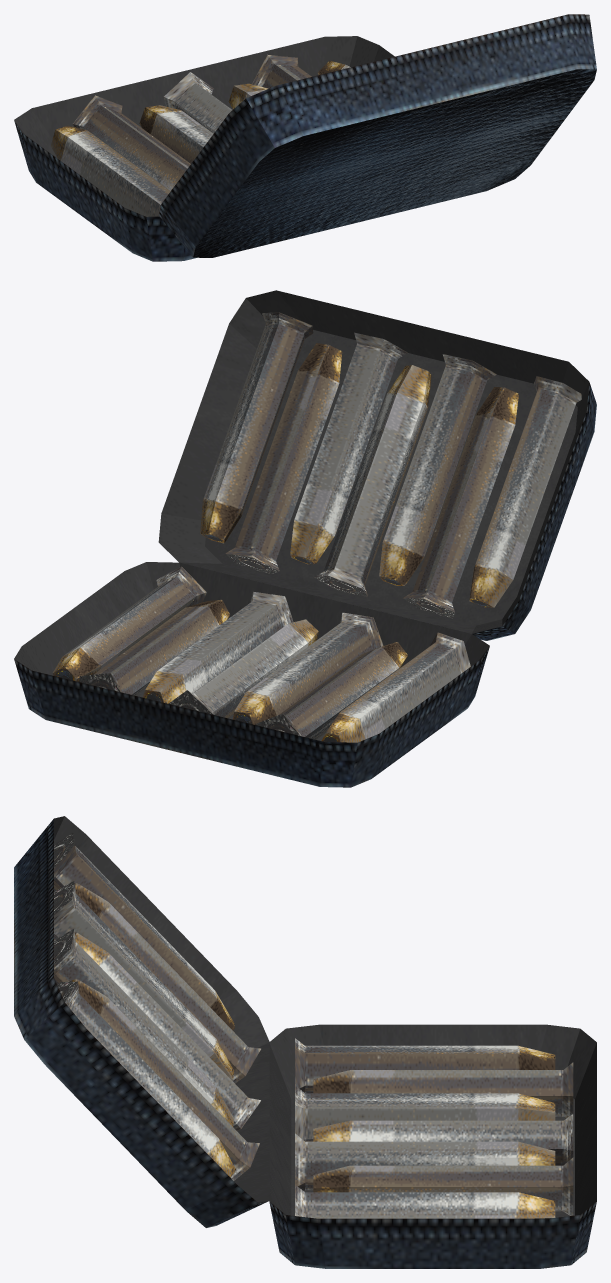
Rendered from magnumBox.glb.
The picture shows the model from 3 angles, top to bottom: view 1: azimuth 30°, elevation 25°; view 2: azimuth 150°, elevation 25°; view 3: azimuth 270°, elevation 25°; orthographic projection. The views are drawn at different scales.
Visible parts, largest first — view 1: magnum wallet; view 2: magnum wallet; view 3: magnum wallet.
Boxes of the visible parts, left/top/right/bottom form: magnum wallet: left=14, top=14, right=596, bottom=261; magnum wallet: left=14, top=290, right=596, bottom=787; magnum wallet: left=14, top=816, right=596, bottom=1268.
Size of the model in its own units: 0.2411 by 0.1623 by 0.3062.
Materials: 2 (2 with a texture image).
